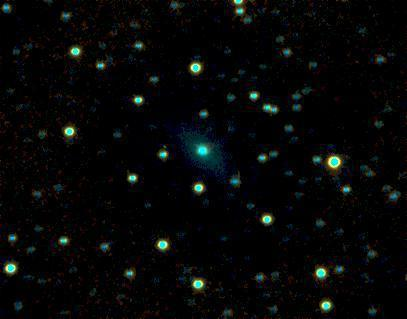star: (148, 134, 178, 164)
